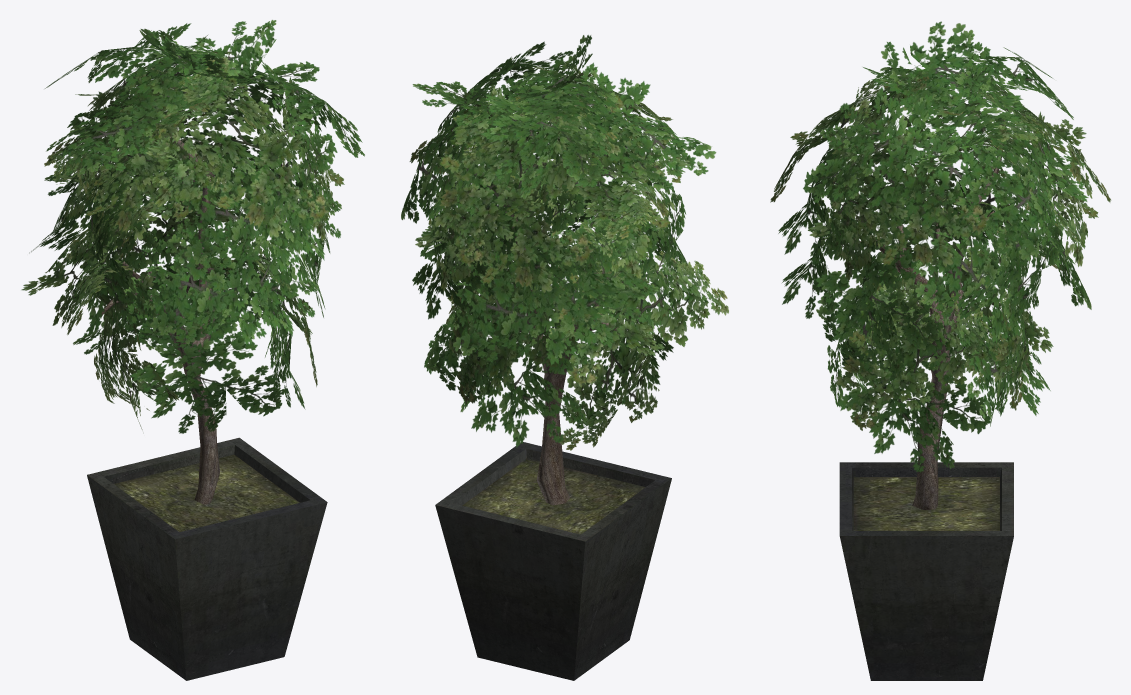
File: Planter_Tapered.glb
The picture shows the model from 3 angles, left to right: view 1: azimuth 30°, elevation 25°; view 2: azimuth 150°, elevation 25°; view 3: azimuth 270°, elevation 25°; orthographic projection.
Parts seen in each view (by area): view 1: Planter_Tapered__LOD3; view 2: Planter_Tapered__LOD3; view 3: Planter_Tapered__LOD3.
Boxes of the visible parts, x1,y1,x2,y2 form: Planter_Tapered__LOD3: [21, 20, 364, 680]; Planter_Tapered__LOD3: [401, 35, 728, 680]; Planter_Tapered__LOD3: [770, 21, 1111, 680].
Bounding box in the file's own units: 0.8883 × 1.79 × 0.9099.
Materials: 2 (2 with a texture image).
